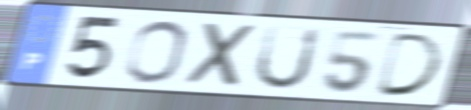5: (62, 14, 128, 83), (320, 27, 381, 96)
D: (371, 31, 446, 99)
O: (122, 18, 190, 86)
U: (251, 23, 324, 92)
X: (184, 19, 263, 90)
